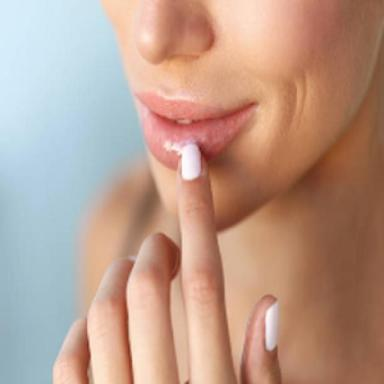normal skin: (56, 0, 384, 384)
